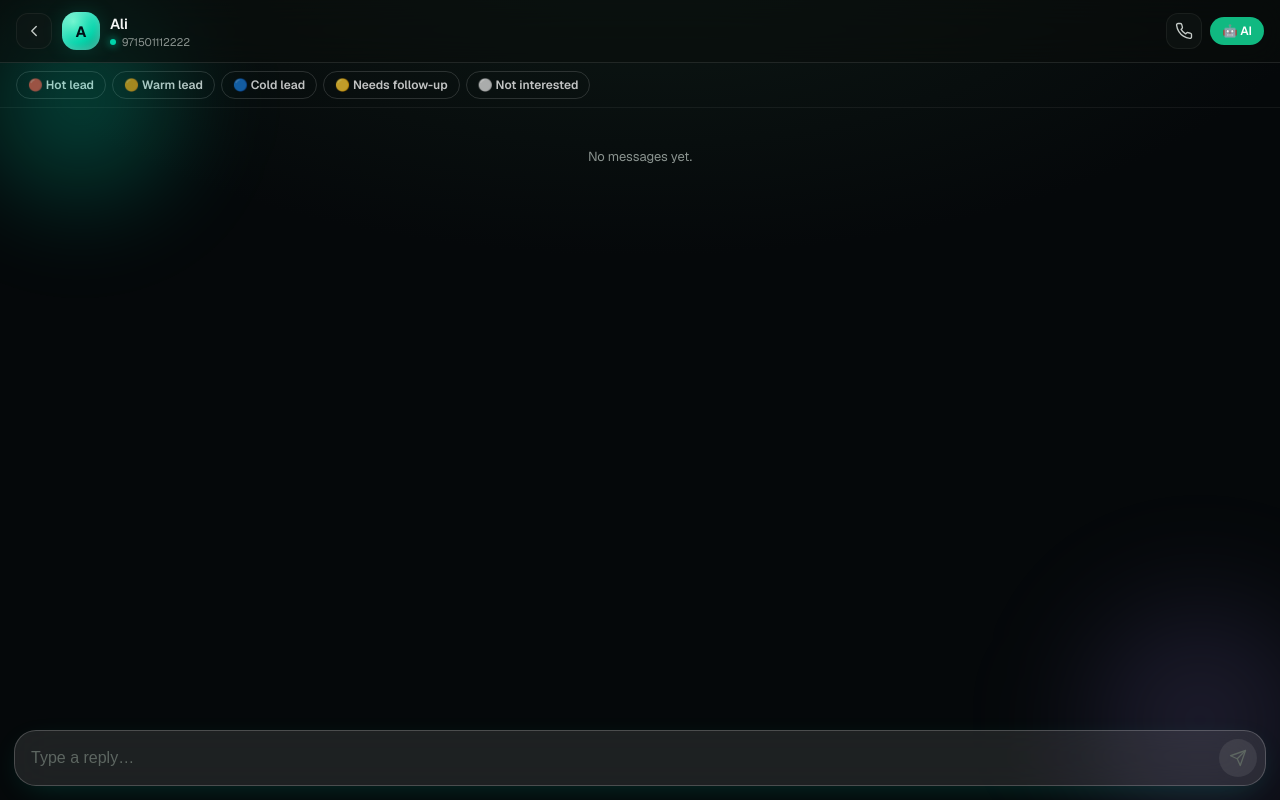
Test case: ChatThread › shows the API error when sending fails
Type "x" into the field with placeholder "Type a reply…" at [621, 758], box [31,741,1211,775]
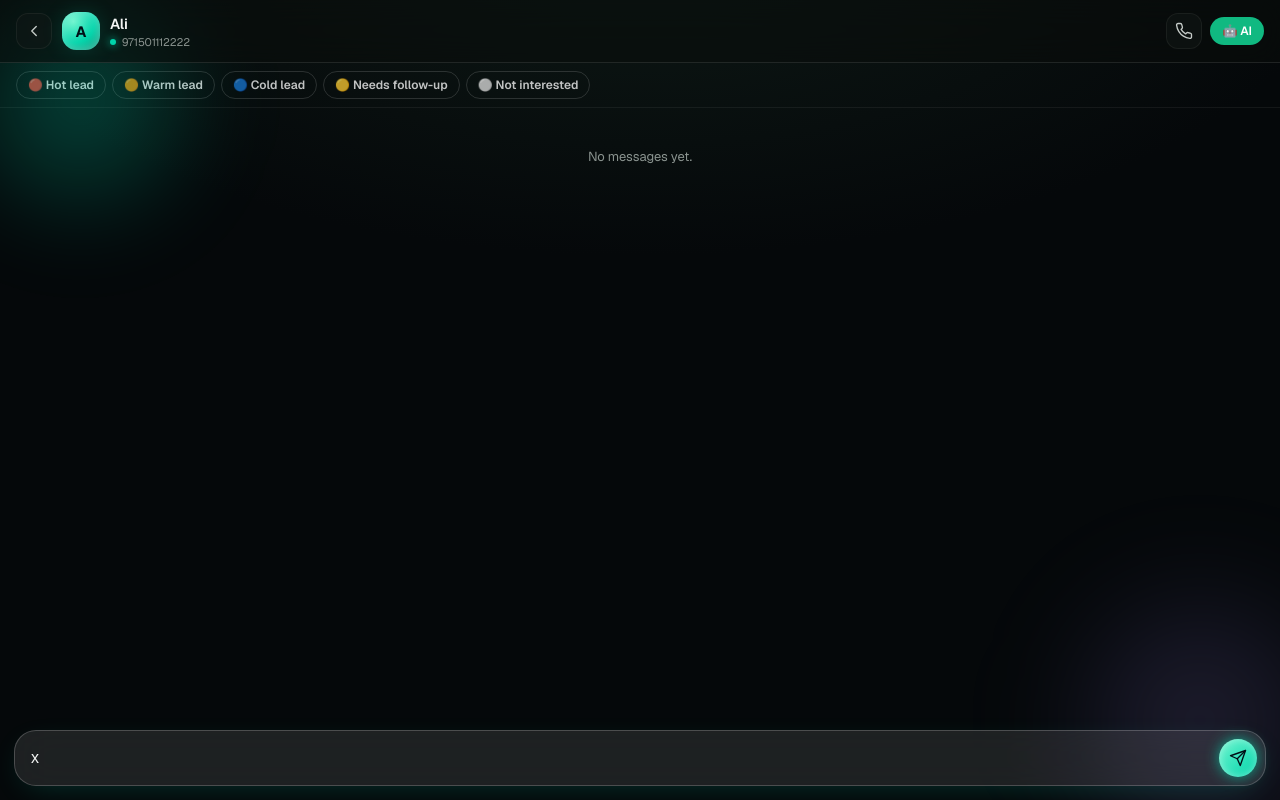
Click the button named "send" at [1238, 758], box [1219,739,1257,777]
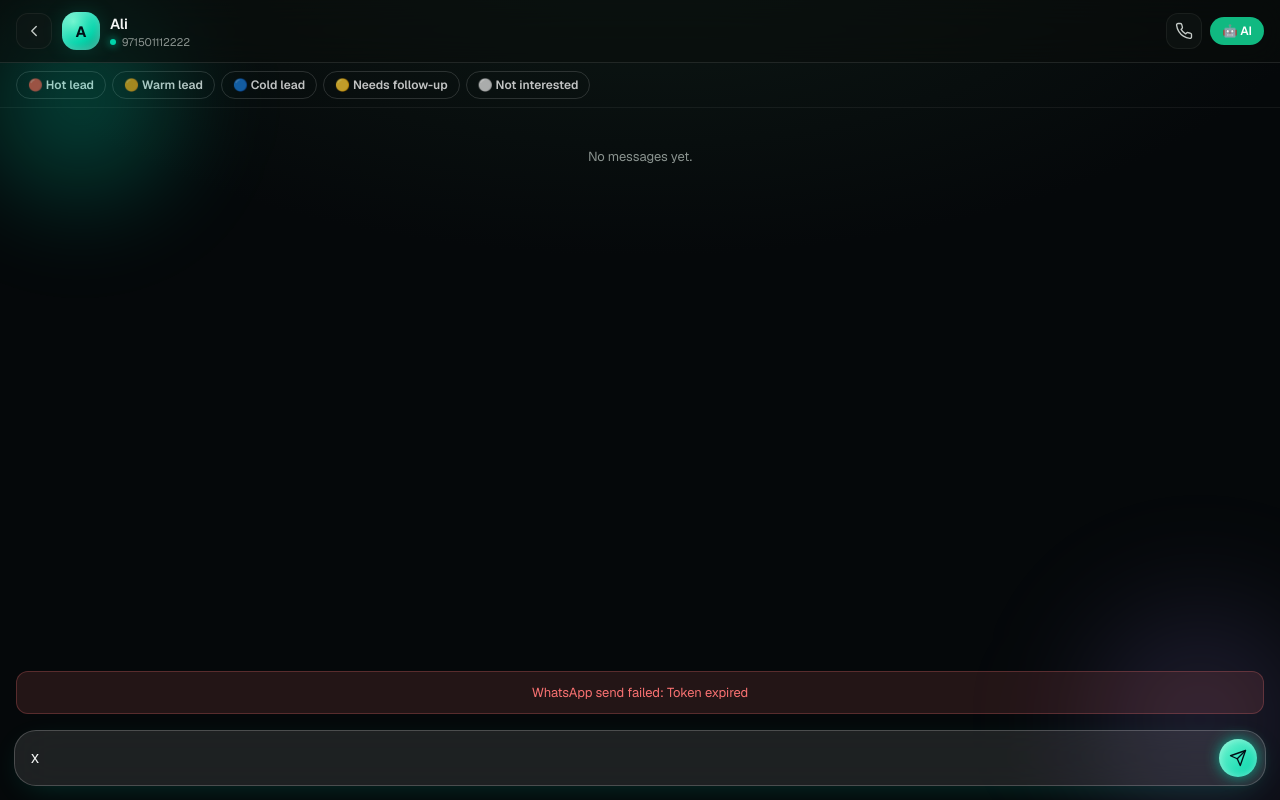
Now the text "WhatsApp send failed: Token expired" is shown, box [16,671,1264,714]
